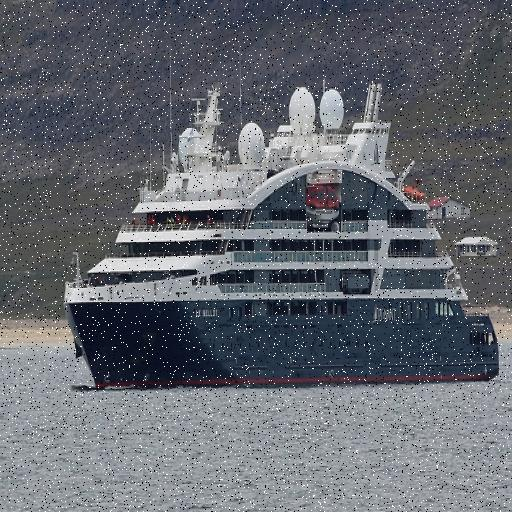cruises: (57, 45, 507, 401)
